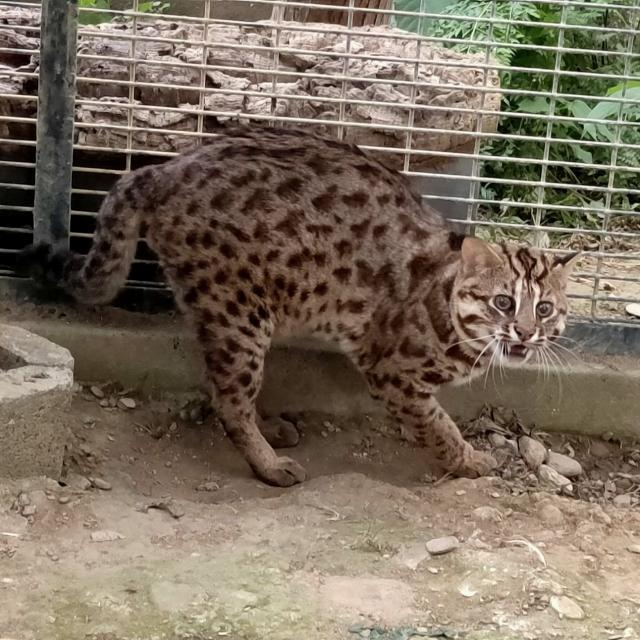leopard: (142, 172, 562, 425)
